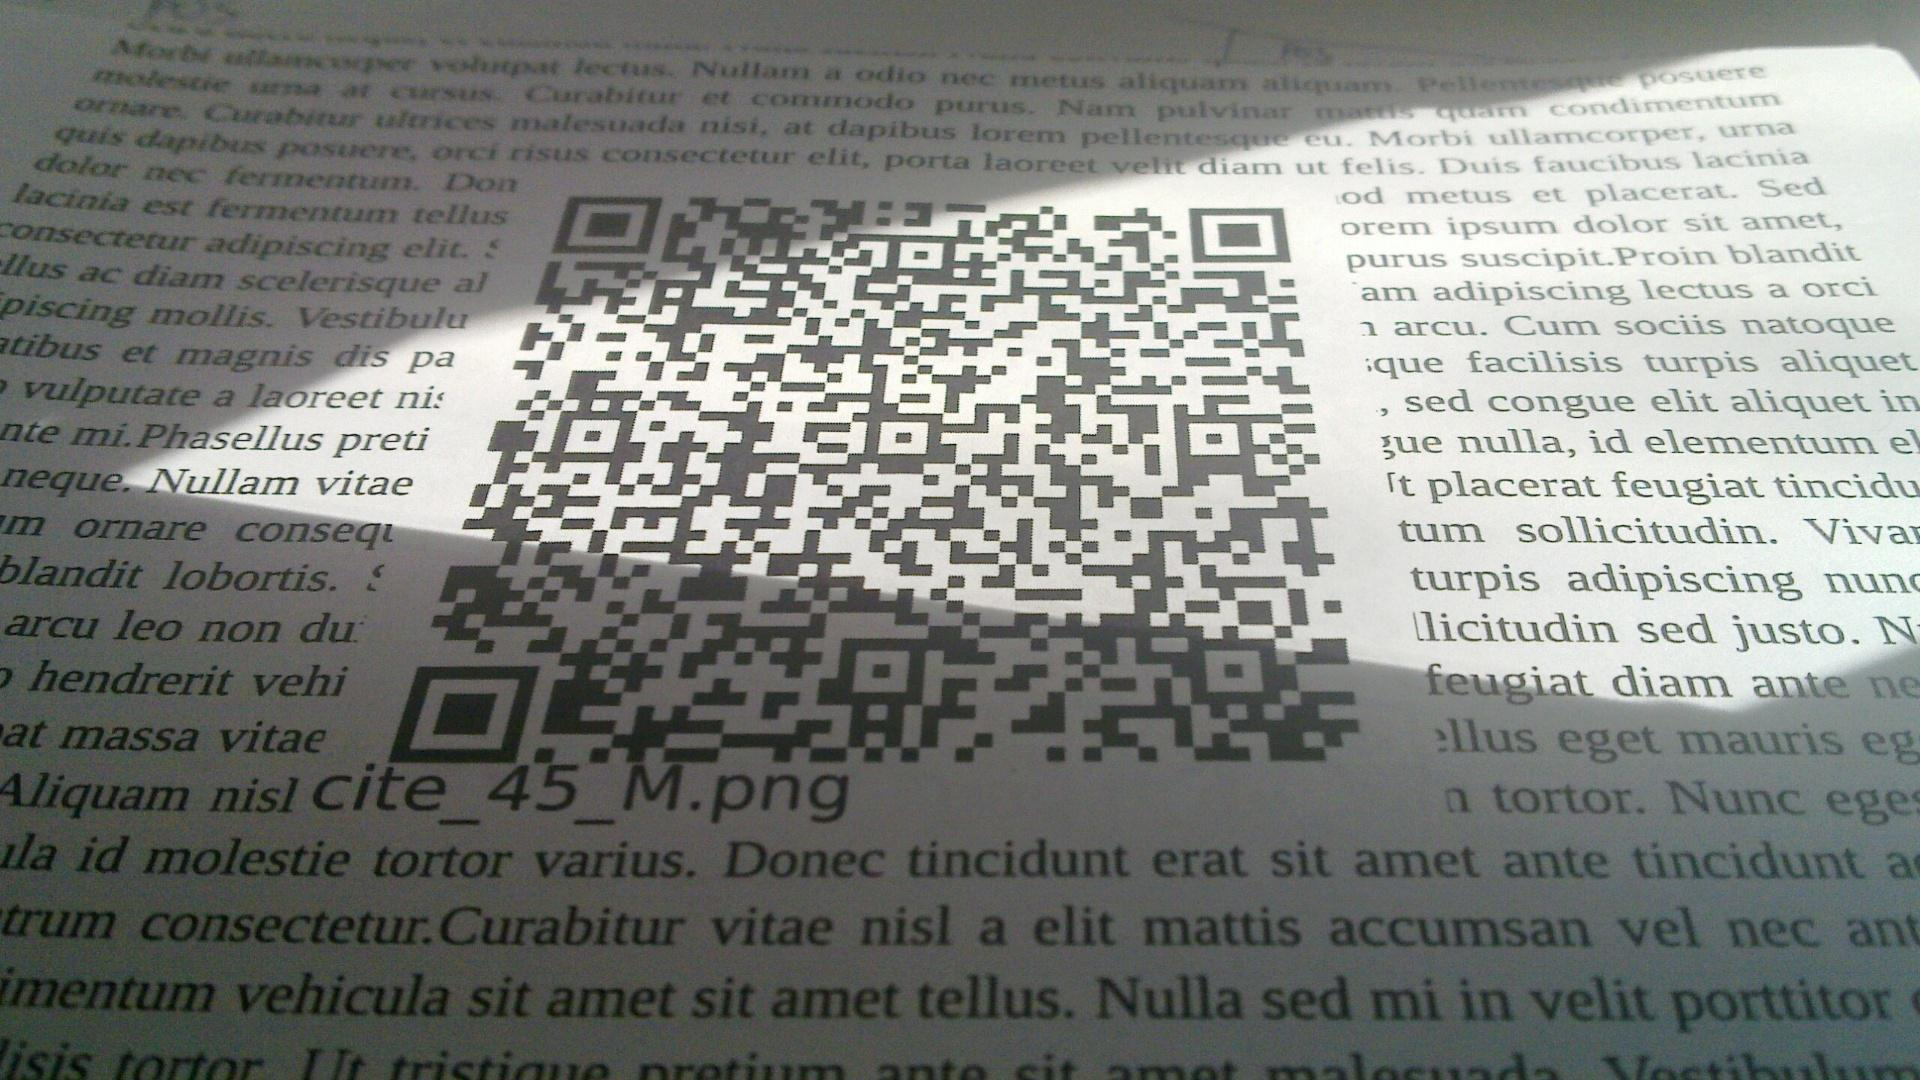Finder pattern: (396, 661, 545, 767), (1182, 200, 1296, 266), (555, 189, 662, 255)
